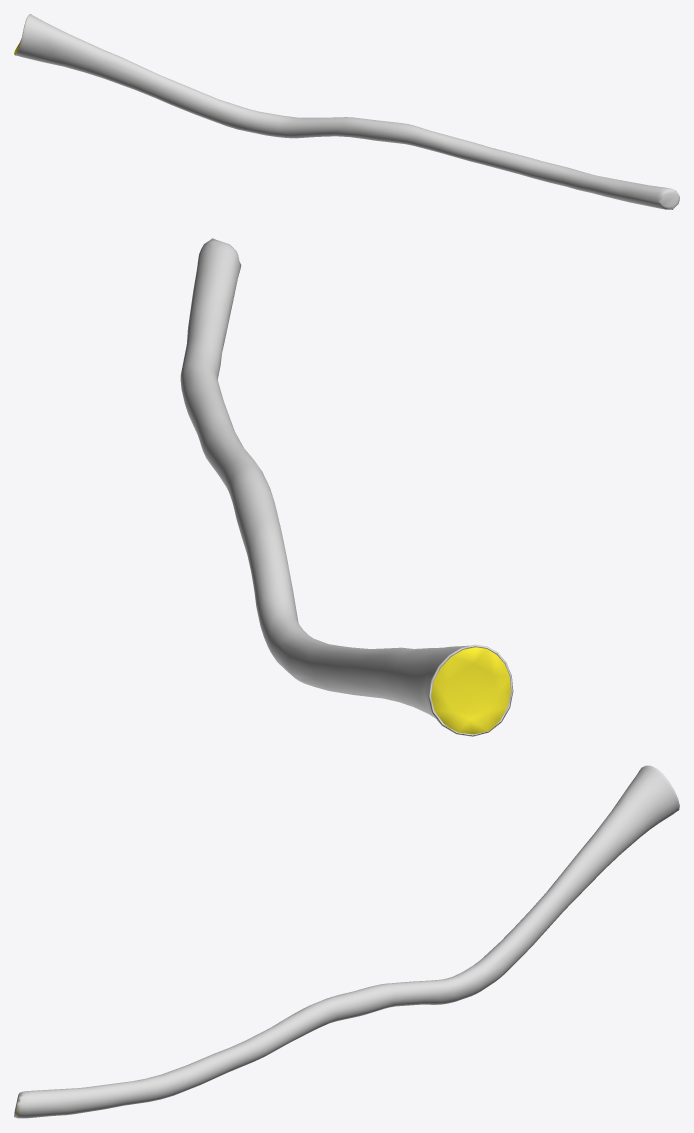
The model's file is optic_nerve_l.glb.
3 renders of one model, top to bottom at view 1: azimuth 30°, elevation 25°; view 2: azimuth 150°, elevation 25°; view 3: azimuth 270°, elevation 25°, orthographic. The views are drawn at different scales.
Visible parts, largest first — view 1: VH_M_dura_mater_left; view 2: VH_M_dura_mater_left, VH_M_left_optic_nerve; view 3: VH_M_dura_mater_left.
Part boxes in pixels (x1=…): VH_M_dura_mater_left: x1=14, y1=14, x2=679, y2=209; VH_M_dura_mater_left: x1=180, y1=238, x2=513, y2=736; VH_M_left_optic_nerve: x1=431, y1=647, x2=510, y2=734; VH_M_dura_mater_left: x1=14, y1=765, x2=679, y2=1118.
Size of the model in its own units: 0.0358 by 0.00884 by 0.0412.
